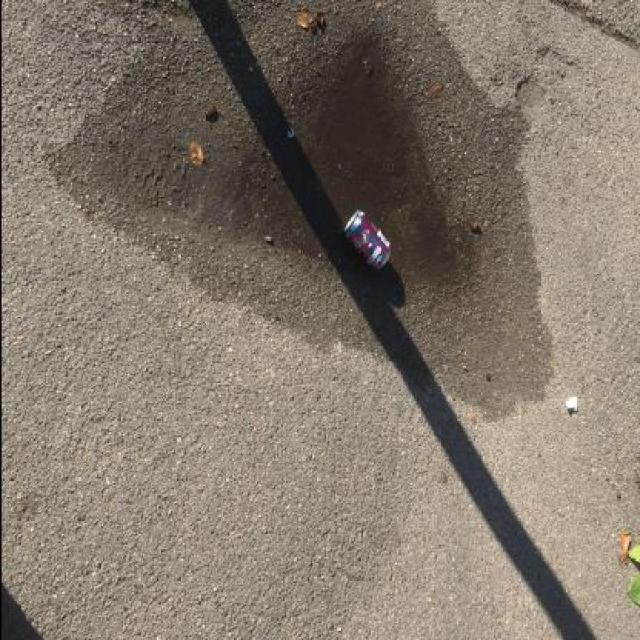metal: (342, 209, 390, 271)
